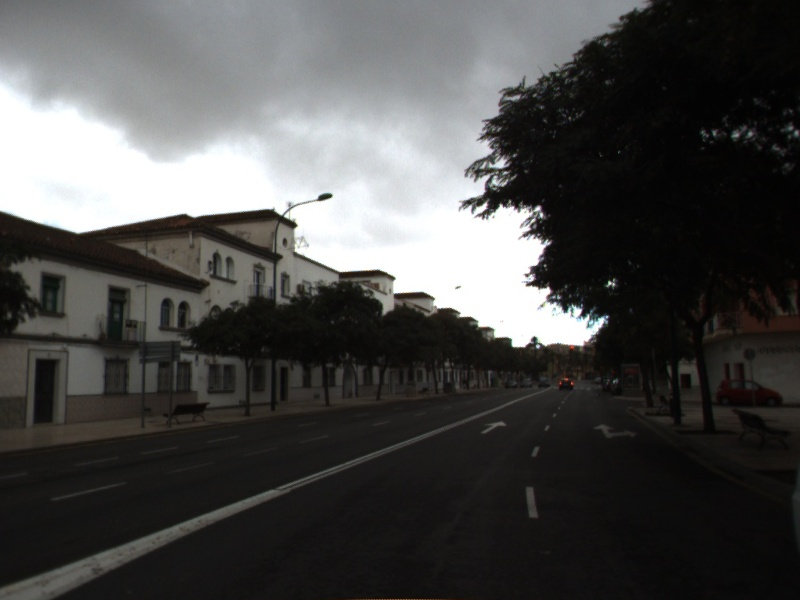STRAIGHT: (479, 419, 509, 435)
STRAIGHT_RIGHT: (591, 422, 639, 440)
